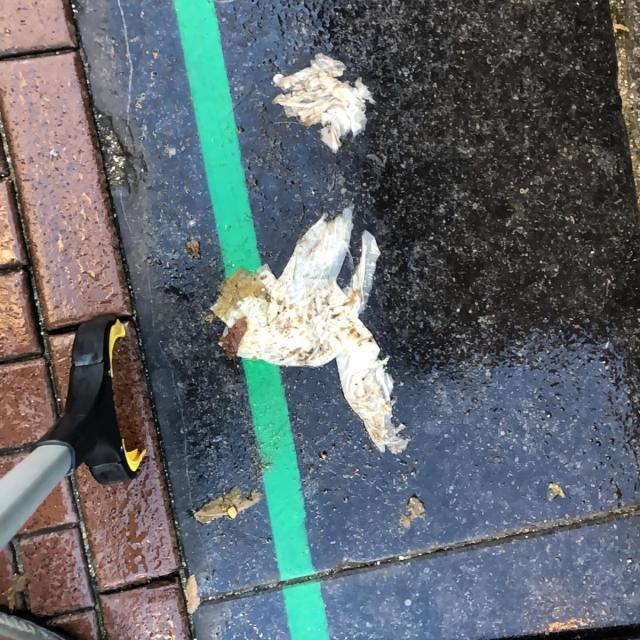Paper: (210, 202, 411, 457), (272, 52, 378, 153)
